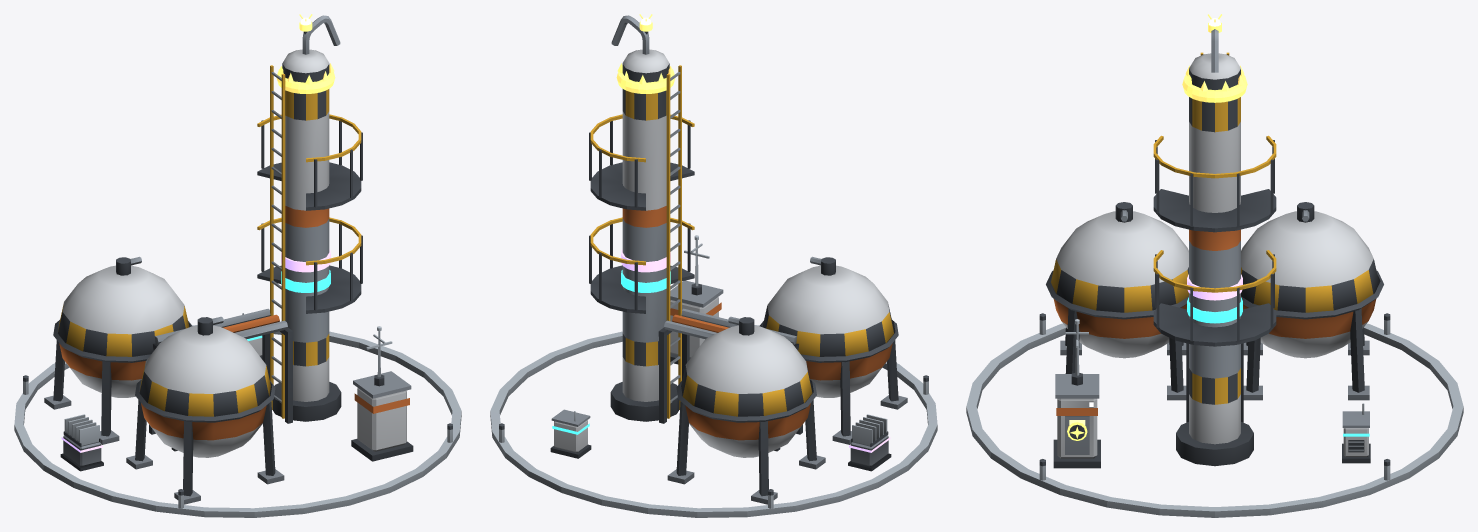
Rendered from fuel_refinery.glb.
3 renders of one model, left to right at view 1: azimuth 30°, elevation 25°; view 2: azimuth 150°, elevation 25°; view 3: azimuth 270°, elevation 25°, orthographic. The views are drawn at different scales.
Parts seen in each view (by area): view 1: Base, L2, L4, L5, L3; view 2: Base, L2, L4, L3, L5; view 3: Base, L2, L3, L5.
Part boxes in pixels (x1=…): Base: x1=44, y1=15, x2=413, y2=504; L2: x1=14, y1=325, x2=461, y2=517; L4: x1=60, y1=249, x2=330, y2=471; L5: x1=276, y1=14, x2=335, y2=93; L3: x1=242, y1=270, x2=330, y2=358; Base: x1=589, y1=15, x2=907, y2=504; L2: x1=490, y1=235, x2=937, y2=517; L4: x1=621, y1=249, x2=891, y2=471; L3: x1=550, y1=270, x2=670, y2=458; L5: x1=616, y1=14, x2=675, y2=93; Base: x1=1046, y1=29, x2=1383, y2=468; L2: x1=966, y1=313, x2=1463, y2=517; L3: x1=1187, y1=297, x2=1370, y2=463; L5: x1=1067, y1=14, x2=1247, y2=440.
Size of the model in its own units: 6.86 by 6.61 by 6.86.
